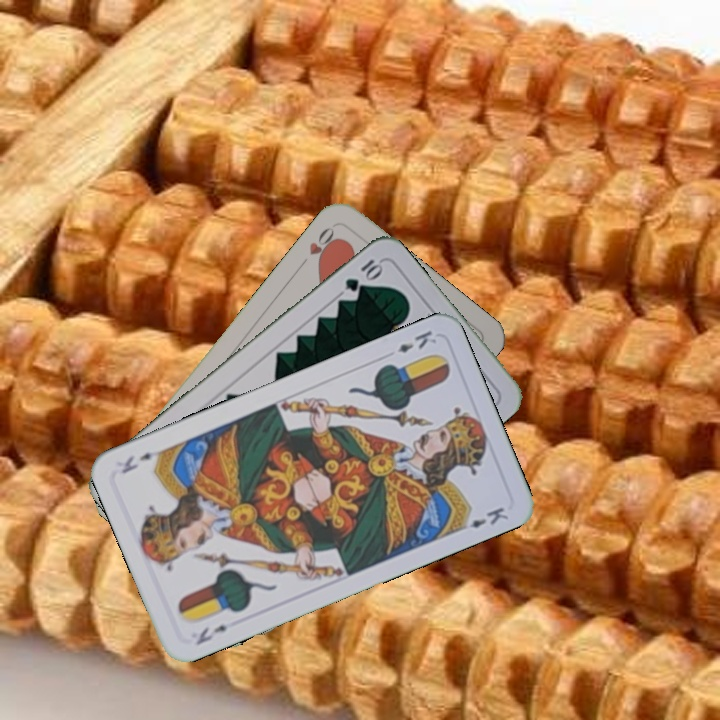EK: (393, 326, 439, 356), (192, 621, 230, 648)
G10: (340, 255, 385, 295)
HO: (304, 223, 341, 267)
